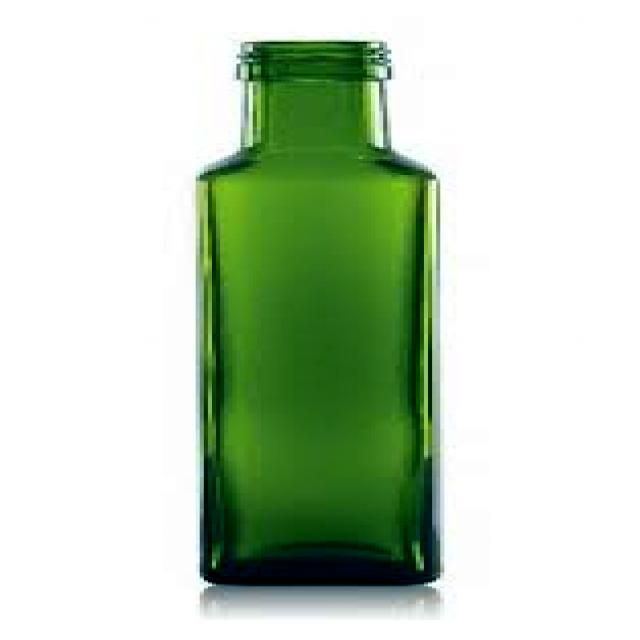Glass: (184, 36, 453, 594)
